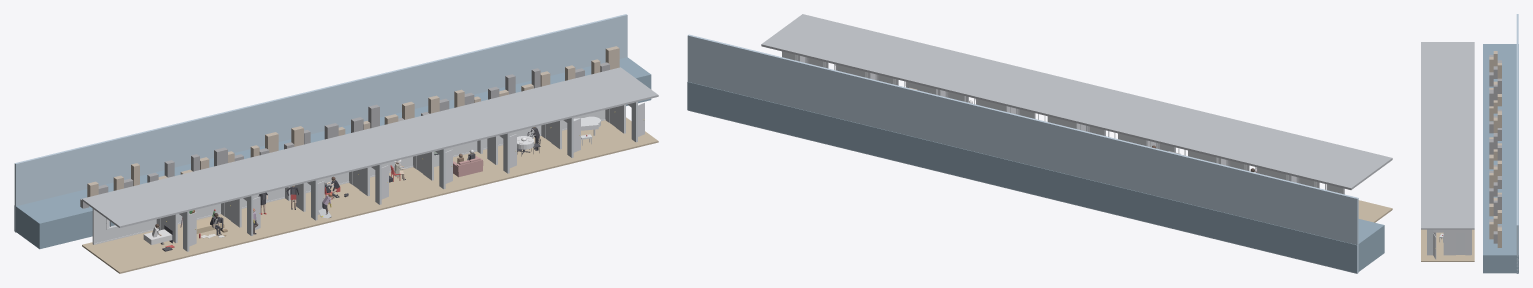
3 renders of one model, left to right at view 1: azimuth 30°, elevation 25°; view 2: azimuth 150°, elevation 25°; view 3: azimuth 270°, elevation 25°, orthographic. The views are drawn at different scales.
Parts seen in each view (by area): view 1: ExteriorSky, SetCeiling, SetFloor, HarborWater, SkylineBuildings_Tan, SkylineBuildings_Grey, BackWalls_All, PartitionMids_All, PartitionFronts_All, Baseboards_All; view 2: ExteriorSky, SetCeiling, HarborWater, BackWalls_All, Windows_All, SetFloor; view 3: SetCeiling, HarborWater, SkylineBuildings_Tan, SkylineBuildings_Grey, SetFloor, ExteriorSky, PartitionMids_All, PartWall7_RearDoorClosed, PartitionFronts_All, PartWall7_OpenDoor, DoorwayLintels_All.
Boxes of the visible parts, bbox=[...] form: ExteriorSky: bbox=[14, 14, 627, 232]; SetCeiling: bbox=[82, 67, 658, 227]; SetFloor: bbox=[82, 117, 658, 273]; HarborWater: bbox=[14, 57, 651, 249]; SkylineBuildings_Tan: bbox=[87, 46, 619, 197]; SkylineBuildings_Grey: bbox=[80, 62, 609, 208]; BackWalls_All: bbox=[92, 110, 605, 244]; PartitionMids_All: bbox=[156, 105, 625, 243]; PartitionFronts_All: bbox=[183, 102, 637, 251]; Baseboards_All: bbox=[93, 119, 605, 244]; ExteriorSky: bbox=[687, 34, 1358, 273]; SetCeiling: bbox=[761, 14, 1392, 189]; HarborWater: bbox=[687, 81, 1384, 273]; BackWalls_All: bbox=[782, 51, 1344, 194]; Windows_All: bbox=[796, 55, 1328, 190]; SetFloor: bbox=[1358, 200, 1392, 222]; SetCeiling: bbox=[1421, 42, 1474, 229]; HarborWater: bbox=[1483, 44, 1518, 273]; SkylineBuildings_Tan: bbox=[1489, 51, 1501, 247]; SkylineBuildings_Grey: bbox=[1489, 55, 1501, 243]; SetFloor: bbox=[1421, 229, 1474, 261]; ExteriorSky: bbox=[1516, 14, 1518, 273]; PartitionMids_All: bbox=[1443, 229, 1471, 255]; PartWall7_RearDoorClosed: bbox=[1456, 232, 1465, 254]; PartitionFronts_All: bbox=[1427, 229, 1433, 255]; PartWall7_OpenDoor: bbox=[1433, 233, 1436, 259]; DoorwayLintels_All: bbox=[1433, 229, 1465, 232].
Bounding box in the file's own units: 42 × 4.6 × 8.2.
